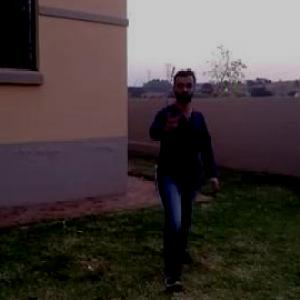takeoff-hand: (157, 105, 188, 139)
